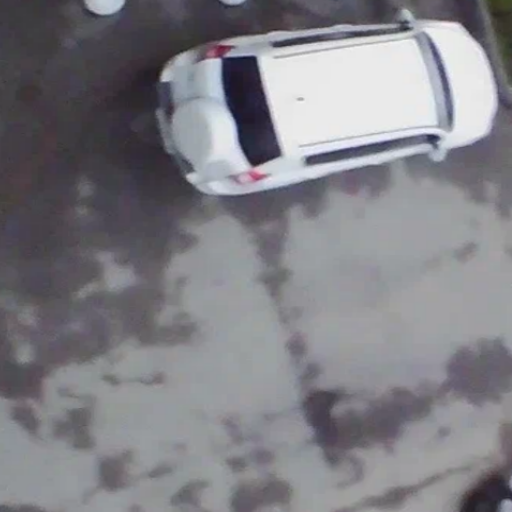Car: (150, 11, 495, 195)
